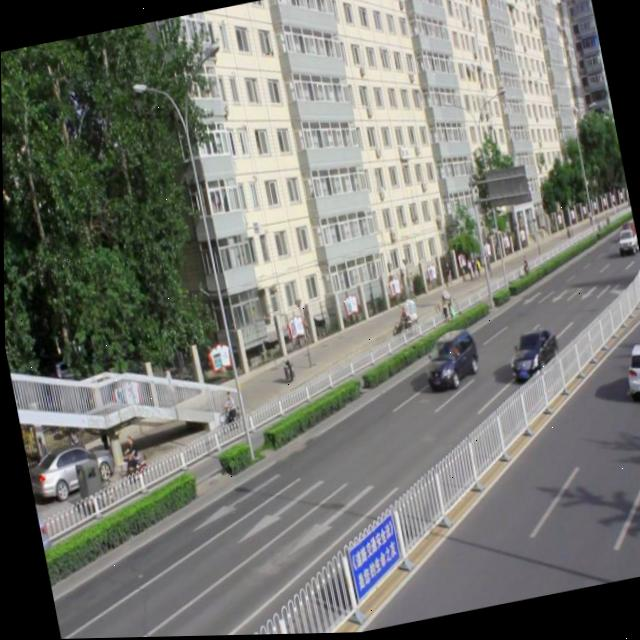car: (416, 328, 479, 394), (502, 325, 560, 388), (616, 338, 640, 407)
